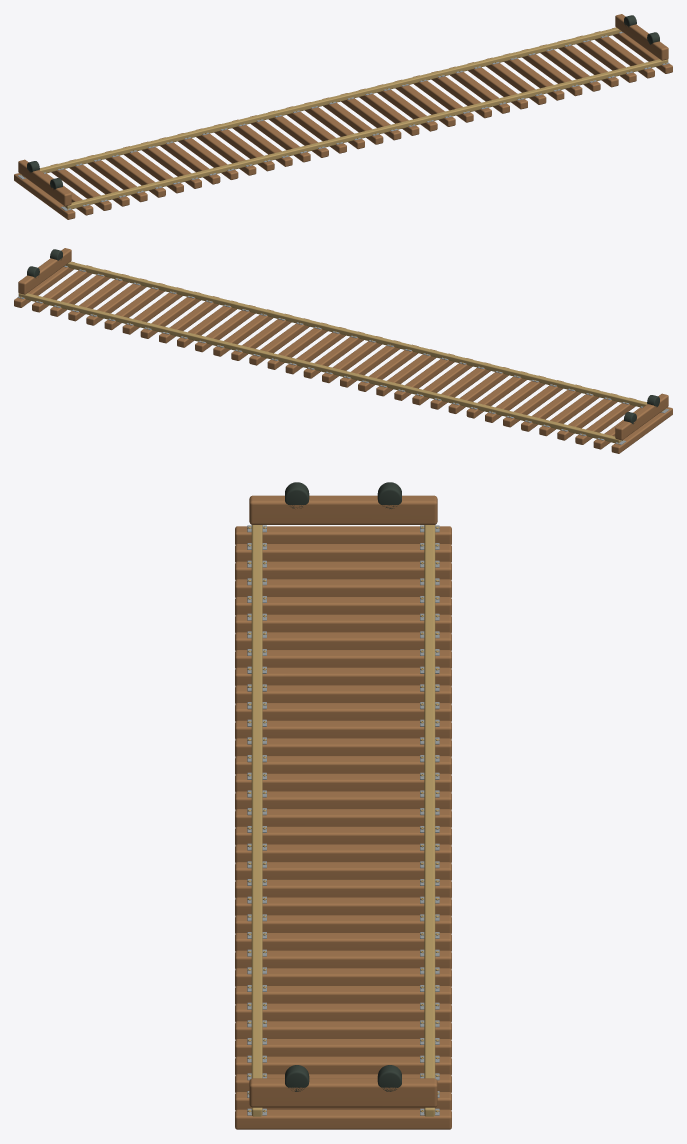
File: v17_train_track.glb
3 views of the same model, one above another, from view 1: azimuth 30°, elevation 25°; view 2: azimuth 150°, elevation 25°; view 3: azimuth 270°, elevation 25° (orthographic). The views are drawn at different scales.
Visible parts, largest first — view 1: V15_HoneyOak.001, V15_BrushedBrass.002, V15_BearingSteel.001, V15_Rubber; view 2: V15_HoneyOak.001, V15_BrushedBrass.002, V15_BearingSteel.001, V15_Rubber; view 3: V15_HoneyOak.001, V15_BrushedBrass.002, V15_BearingSteel.001, V15_Rubber.
Part boxes in pixels (x1,y1,x2,y2): V15_HoneyOak.001: (14, 14, 672, 219); V15_BrushedBrass.002: (20, 27, 668, 209); V15_BearingSteel.001: (17, 31, 669, 210); V15_Rubber: (27, 15, 659, 189); V15_HoneyOak.001: (14, 248, 672, 453); V15_BrushedBrass.002: (18, 261, 666, 443); V15_BearingSteel.001: (17, 265, 669, 444); V15_Rubber: (27, 249, 659, 424); V15_HoneyOak.001: (235, 495, 451, 1129); V15_BrushedBrass.002: (248, 525, 438, 1116); V15_BearingSteel.001: (247, 525, 439, 1115); V15_Rubber: (285, 482, 401, 1091).
Bounding box in the file's own units: 6.32 × 0.291 × 0.98.
